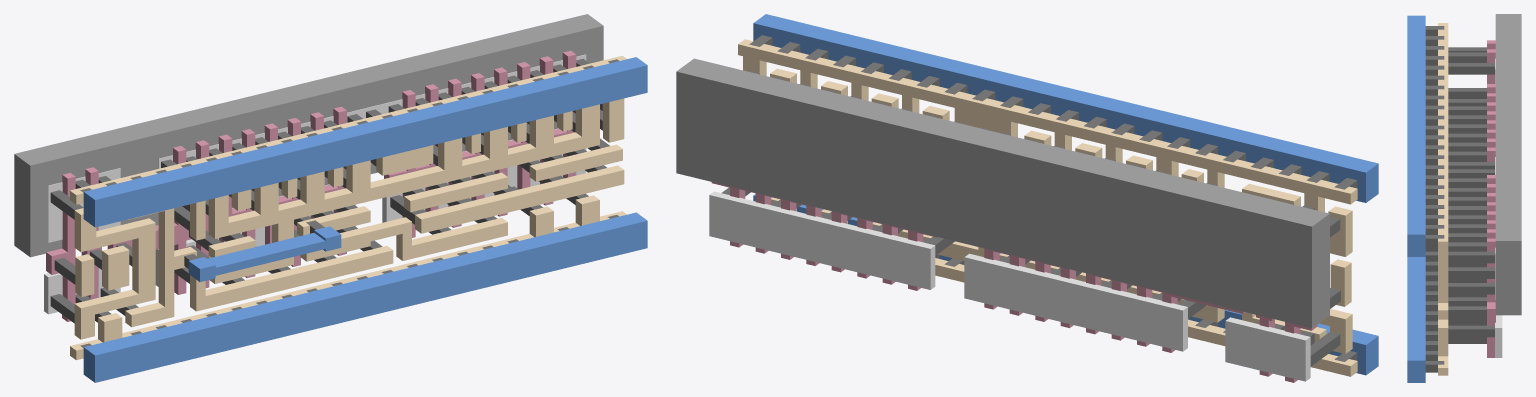
The model's file is sky130_fd_sc_hd__nand4bb_4.gds.gltf.
The picture shows the model from 3 angles, left to right: view 1: azimuth 30°, elevation 25°; view 2: azimuth 150°, elevation 25°; view 3: azimuth 270°, elevation 25°; orthographic projection. The views are drawn at different scales.
Visible parts, largest first — view 1: sky130_fd_sc_hd__nand4bb_4_li1, sky130_fd_sc_hd__nand4bb_4_met1, sky130_fd_sc_hd__nand4bb_4_nwell, sky130_fd_sc_hd__nand4bb_4_poly, sky130_fd_sc_hd__nand4bb_4_licon, sky130_fd_sc_hd__nand4bb_4_diff, sky130_fd_sc_hd__nand4bb_4_mcon; view 2: sky130_fd_sc_hd__nand4bb_4_nwell, sky130_fd_sc_hd__nand4bb_4_diff, sky130_fd_sc_hd__nand4bb_4_li1, sky130_fd_sc_hd__nand4bb_4_met1, sky130_fd_sc_hd__nand4bb_4_mcon, sky130_fd_sc_hd__nand4bb_4_poly, sky130_fd_sc_hd__nand4bb_4_licon; view 3: sky130_fd_sc_hd__nand4bb_4_licon, sky130_fd_sc_hd__nand4bb_4_nwell, sky130_fd_sc_hd__nand4bb_4_met1, sky130_fd_sc_hd__nand4bb_4_mcon, sky130_fd_sc_hd__nand4bb_4_li1, sky130_fd_sc_hd__nand4bb_4_poly, sky130_fd_sc_hd__nand4bb_4_diff.
Part boxes in pixels (<box>): sky130_fd_sc_hd__nand4bb_4_li1: <box>70,55,626,360</box>; sky130_fd_sc_hd__nand4bb_4_met1: <box>83,57,647,382</box>; sky130_fd_sc_hd__nand4bb_4_nwell: <box>14,14,603,257</box>; sky130_fd_sc_hd__nand4bb_4_poly: <box>46,50,576,321</box>; sky130_fd_sc_hd__nand4bb_4_licon: <box>50,58,609,323</box>; sky130_fd_sc_hd__nand4bb_4_diff: <box>44,54,586,314</box>; sky130_fd_sc_hd__nand4bb_4_mcon: <box>80,59,618,347</box>; sky130_fd_sc_hd__nand4bb_4_nwell: <box>676,58,1329,328</box>; sky130_fd_sc_hd__nand4bb_4_diff: <box>709,191,1310,381</box>; sky130_fd_sc_hd__nand4bb_4_li1: <box>738,39,1357,376</box>; sky130_fd_sc_hd__nand4bb_4_met1: <box>753,14,1378,375</box>; sky130_fd_sc_hd__nand4bb_4_mcon: <box>749,35,1357,361</box>; sky130_fd_sc_hd__nand4bb_4_poly: <box>711,182,1317,382</box>; sky130_fd_sc_hd__nand4bb_4_licon: <box>721,71,1340,366</box>; sky130_fd_sc_hd__nand4bb_4_licon: <box>1448,47,1494,343</box>; sky130_fd_sc_hd__nand4bb_4_nwell: <box>1495,14,1521,315</box>; sky130_fd_sc_hd__nand4bb_4_met1: <box>1407,15,1425,382</box>; sky130_fd_sc_hd__nand4bb_4_mcon: <box>1425,26,1444,372</box>; sky130_fd_sc_hd__nand4bb_4_li1: <box>1438,23,1448,375</box>; sky130_fd_sc_hd__nand4bb_4_poly: <box>1487,40,1495,357</box>; sky130_fd_sc_hd__nand4bb_4_diff: <box>1495,58,1502,357</box>.
Bounding box in the file's own units: 10.5 × 3.2 × 2.24.
